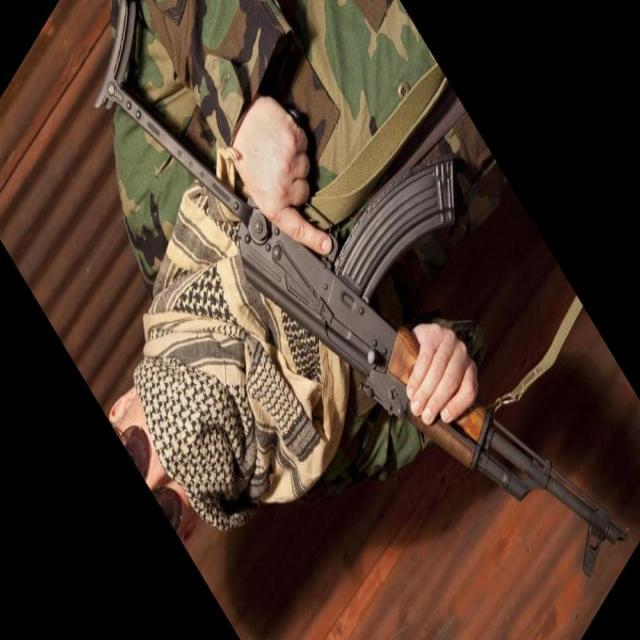weapon: (92, 0, 628, 581)
